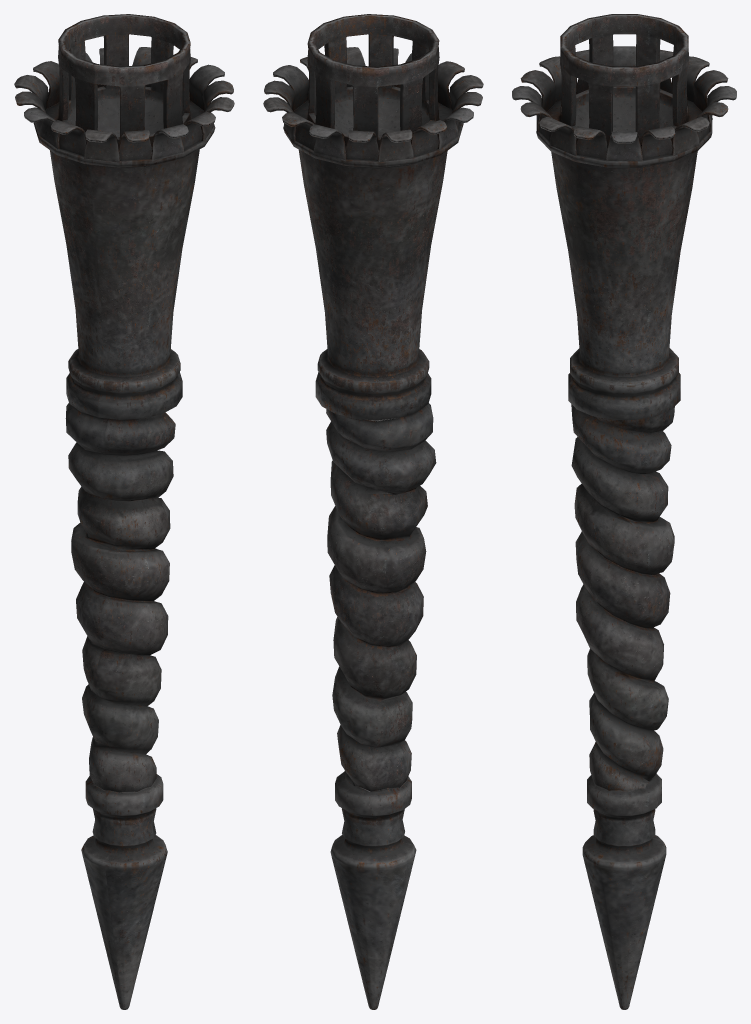
Rendered from sm_Torch_01_02.fbx.
3 renders of one model, left to right at view 1: azimuth 30°, elevation 25°; view 2: azimuth 150°, elevation 25°; view 3: azimuth 270°, elevation 25°, orthographic.
Visible parts, largest first — view 1: sm_Torch_01_02_LOD0; view 2: sm_Torch_01_02_LOD0; view 3: sm_Torch_01_02_LOD0.
Part boxes in pixels (x1,y1,x2,y2): sm_Torch_01_02_LOD0: [14, 14, 234, 1009]; sm_Torch_01_02_LOD0: [263, 14, 483, 1009]; sm_Torch_01_02_LOD0: [512, 14, 736, 1009].
Size of the model in its own units: 14.76 by 14.76 by 70.01.
